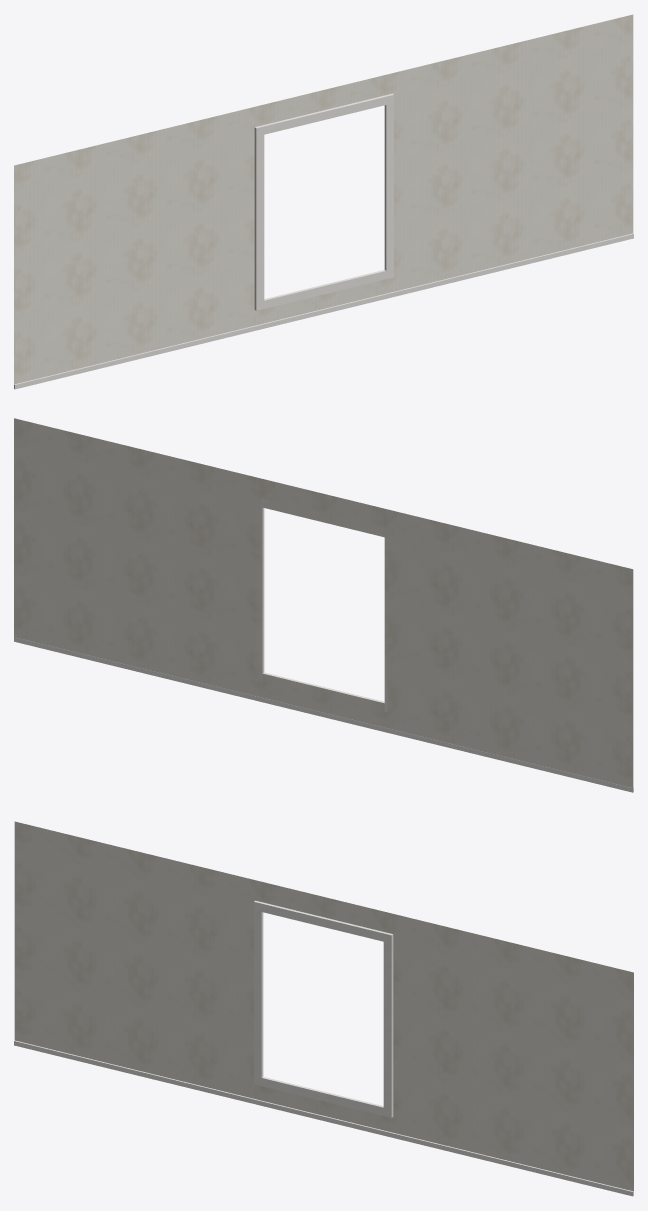
File: wall20_gate_hi.gltf
The picture shows the model from 3 angles, top to bottom: view 1: azimuth 30°, elevation 25°; view 2: azimuth 150°, elevation 25°; view 3: azimuth 330°, elevation 25°; orthographic projection.
Parts seen in each view (by area): view 1: jx_w20_gate_hi; view 2: jx_w20_gate_hi; view 3: jx_w20_gate_hi.
Part boxes in pixels (left/top/right/bottom): jx_w20_gate_hi: left=14, top=14, right=633, bottom=389; jx_w20_gate_hi: left=14, top=418, right=633, bottom=792; jx_w20_gate_hi: left=14, top=821, right=633, bottom=1196.
Size of the model in its own units: 20.3 by 7 by 0.095.
Materials: 2 (2 with a texture image).
